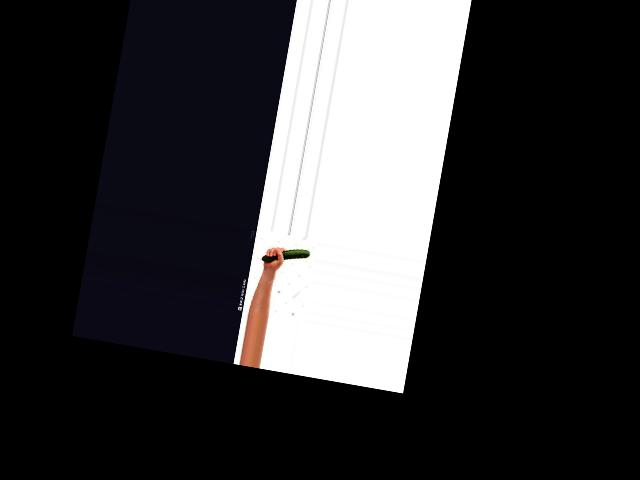cucumber: (261, 242, 310, 268)
